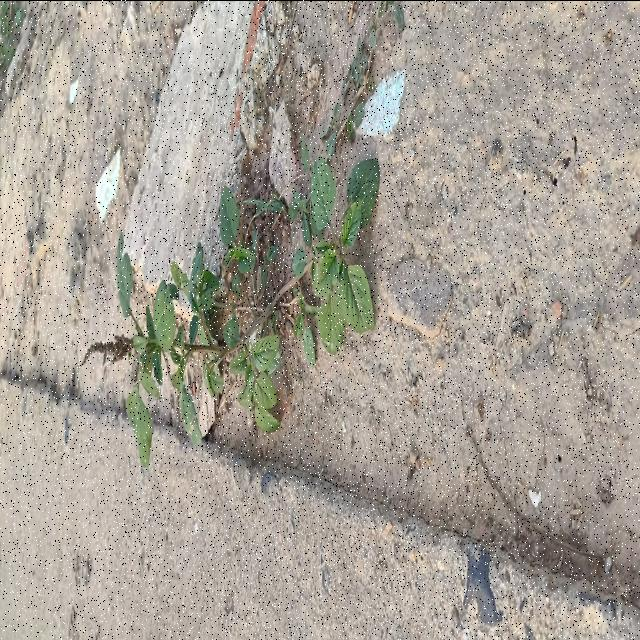plant: (90, 160, 379, 466)
